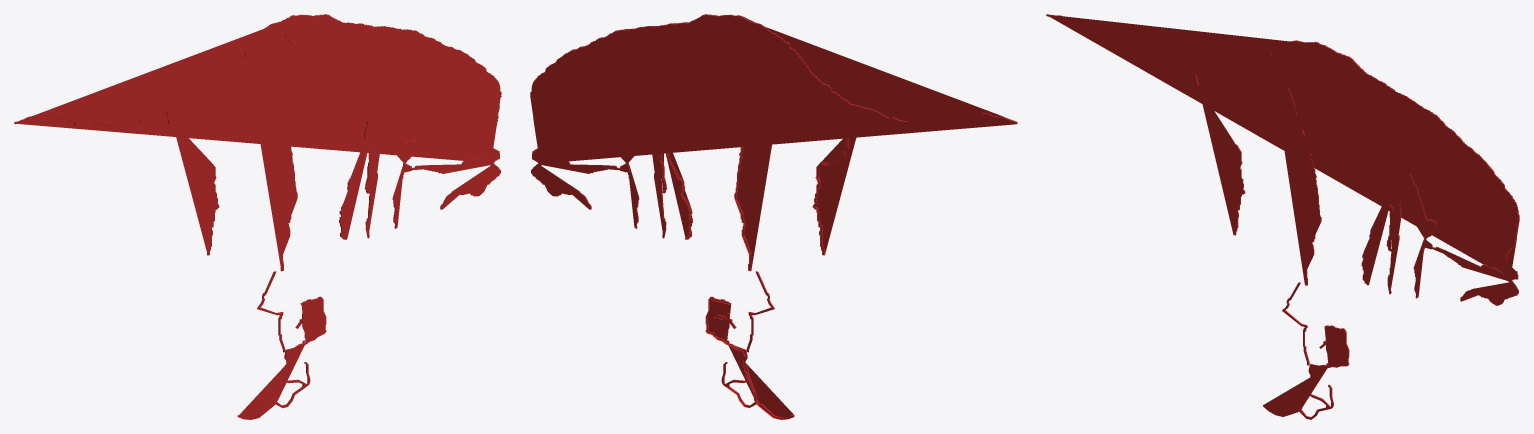
The model's file is jalankolektor.fbx.
3 views of the same model, side by side, from view 1: azimuth 30°, elevation 25°; view 2: azimuth 150°, elevation 25°; view 3: azimuth 330°, elevation 25° (orthographic). The views are drawn at different scales.
Parts seen in each view (by area): view 1: Model; view 2: Model; view 3: Model.
Part boxes in pixels (left/top/right/bottom): Model: left=14, top=14, right=501, bottom=419; Model: left=530, top=14, right=1017, bottom=419; Model: left=1046, top=14, right=1519, bottom=419.
Bounding box in the file's own units: 104 × 80.16 × 0.3125.
